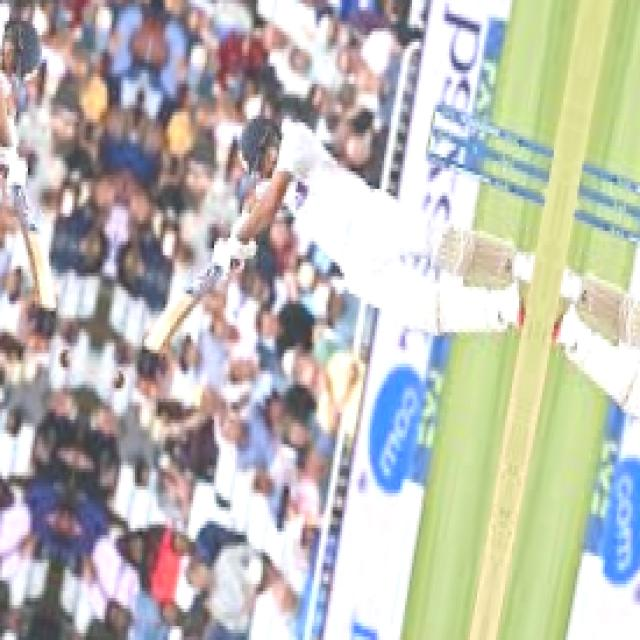toe: (138, 342, 164, 361)
